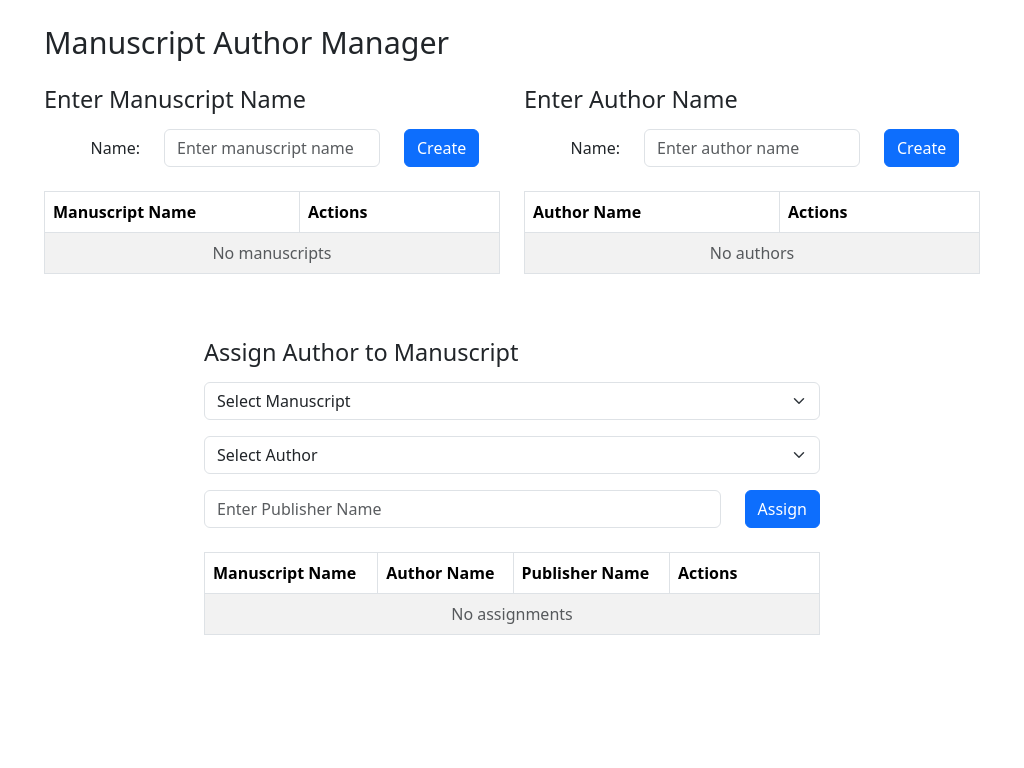
Test: ManuscriptAuthorManager Component › adds a manuscript, author and an assignment successfully
The image size is (1024, 768).
Type "TDD" into the field labelled "Name:" below "Enter Manuscript Name" at (272,148), box [164,129,380,167]
Click the button "Create" below "Enter Manuscript Name" at (442,148), box [404,129,479,167]
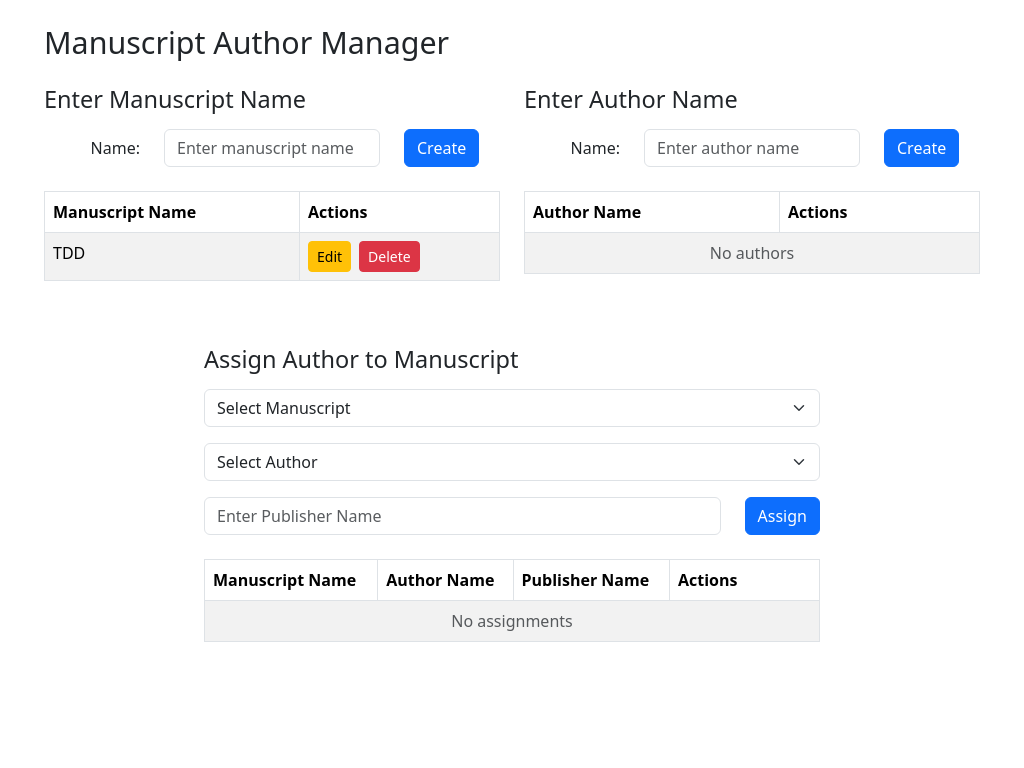
Type "James" into the field labelled "Name:" below "Enter Author Name" at (752,148), box [644,129,860,167]
Click the button "Create" below "Enter Author Name" at (922,148), box [884,129,959,167]
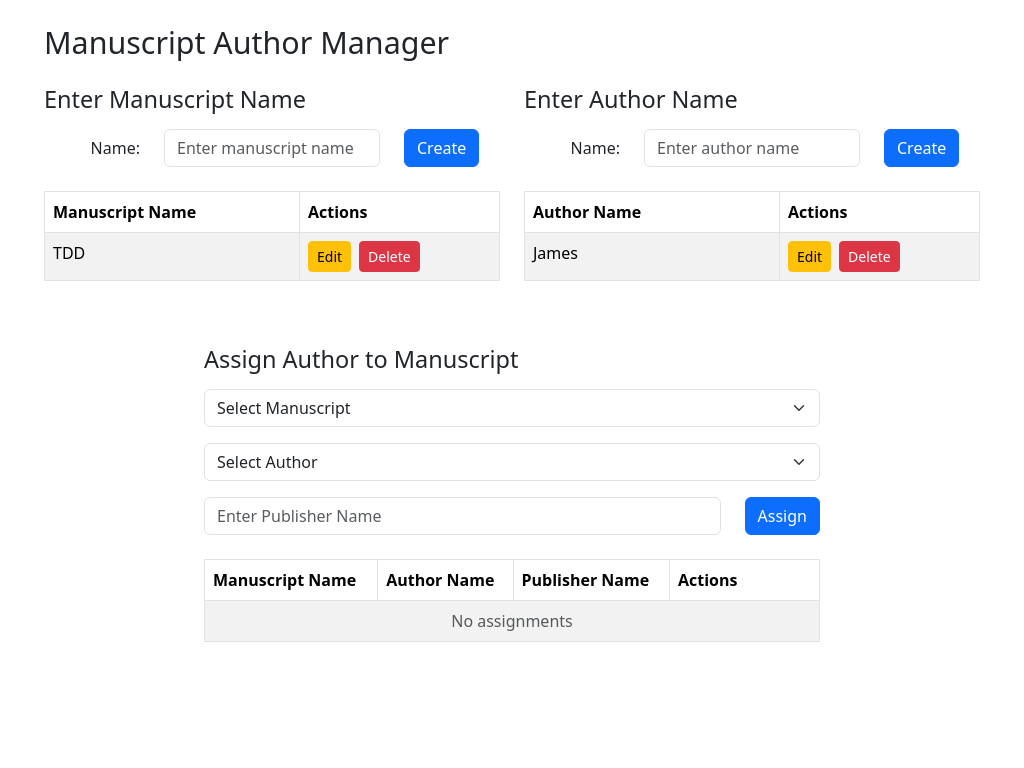
Select "TDD" in the 1st dropdown at (512,408), box [204,389,820,427]
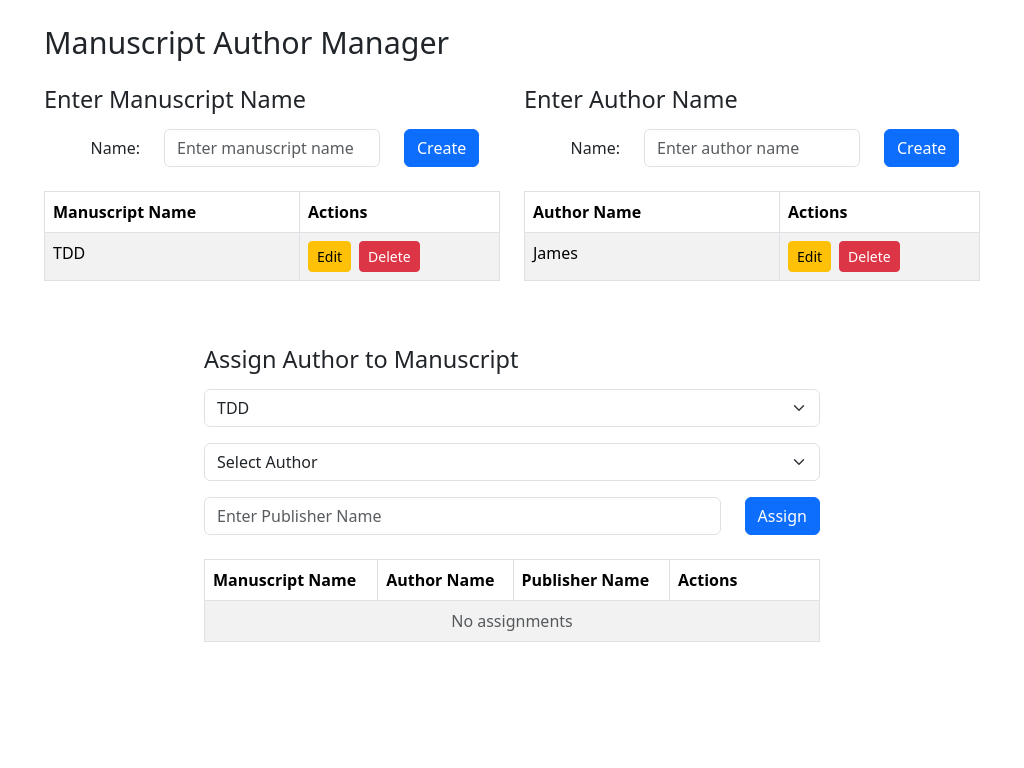
Select "James" in the 2nd dropdown at (512,462), box [204,443,820,481]
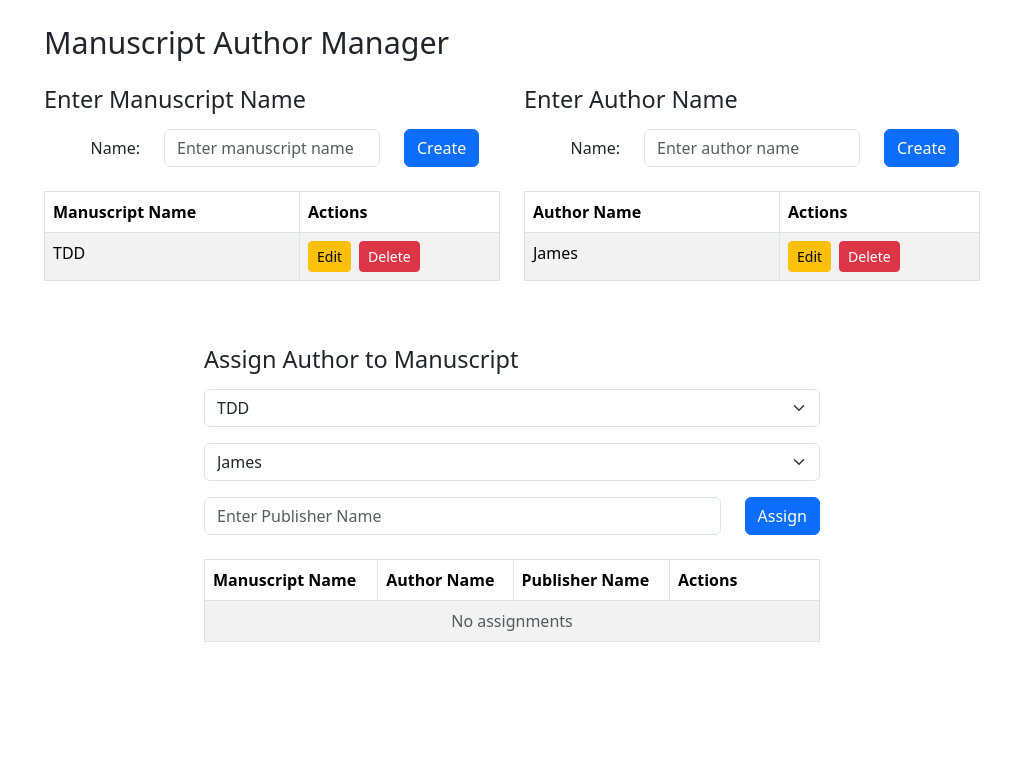
Type "Apress" into the field with placeholder "Enter Publisher Name" at (462,516), box [204,497,721,535]
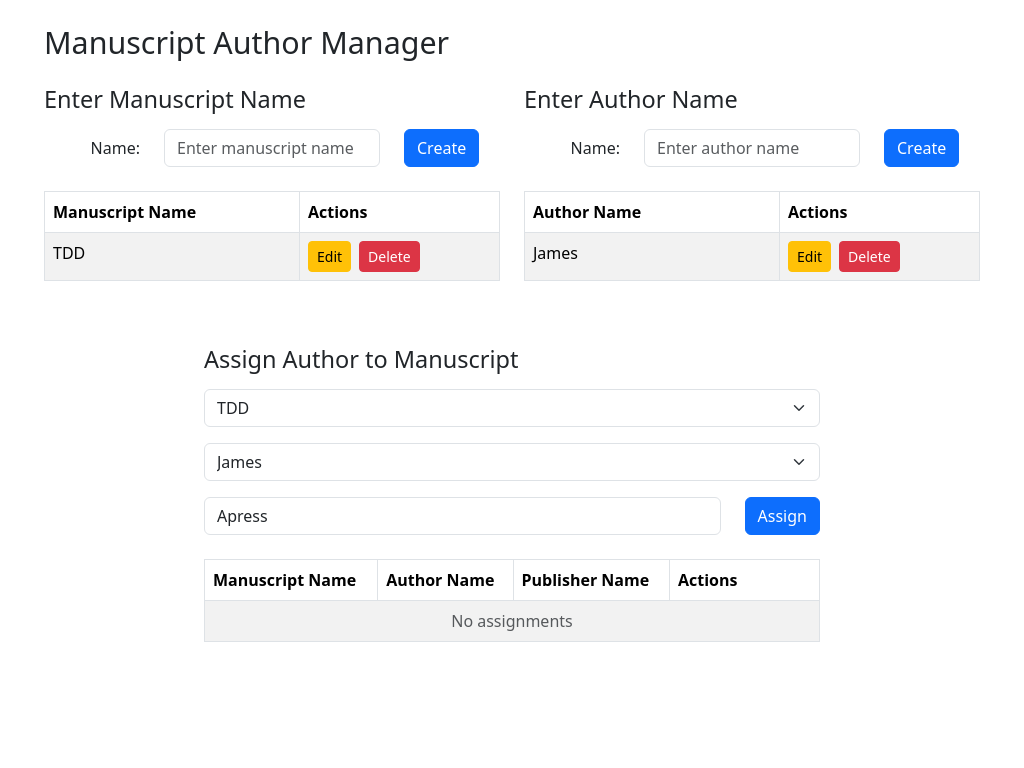
Click the button "Assign" at (782,516), box [744,497,820,535]
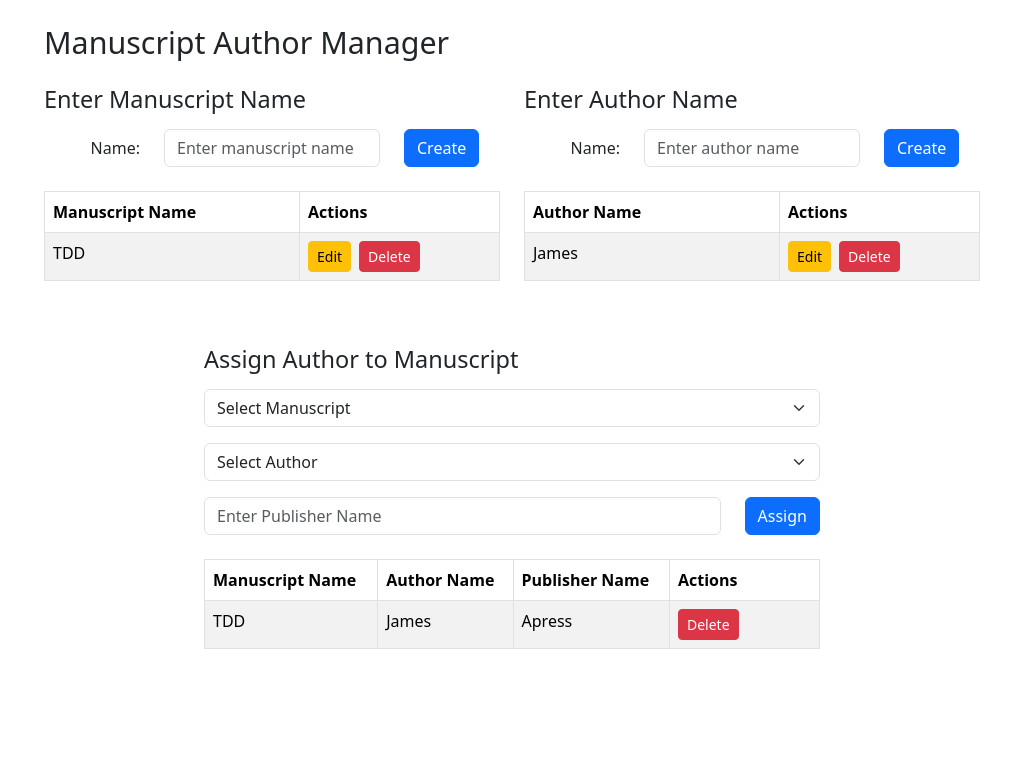
Expected: the text "TDD" below "Enter Manuscript Name" is shown, [53,242,85,264]
Expected: the text "James" below "Enter Author Name" is shown, [533,242,578,264]
Expected: the text "Apress" is shown, [513,600,669,648]
